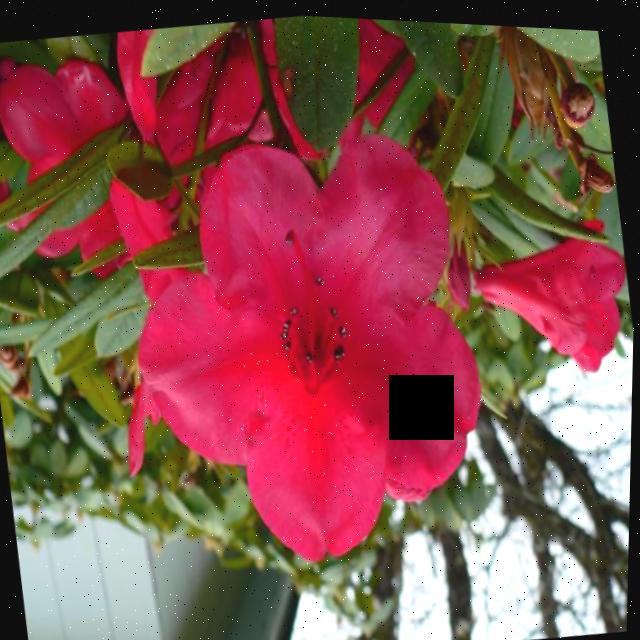azalea: (132, 109, 499, 567), (460, 198, 637, 381)
